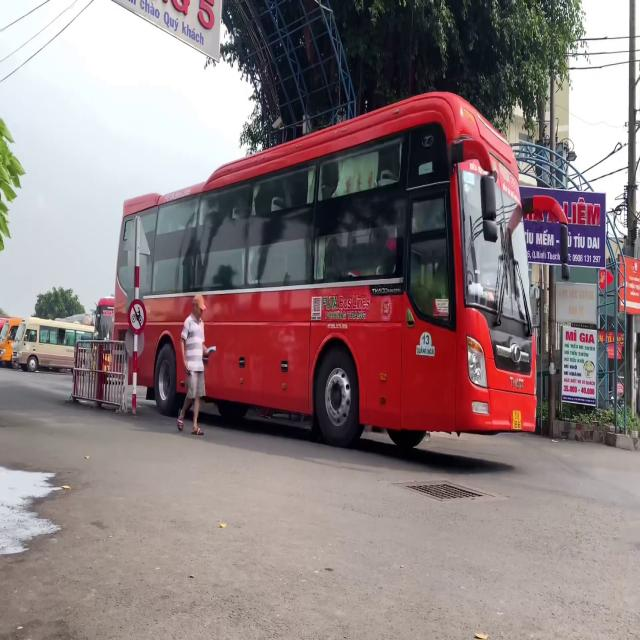bien_vang: (512, 408, 523, 431)
